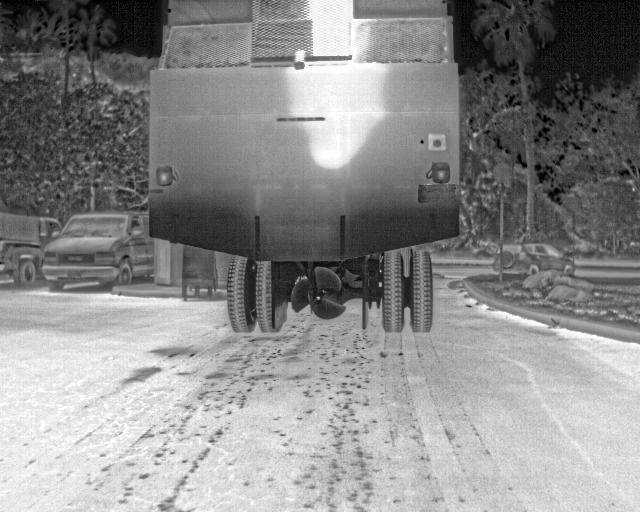bicycle: (41, 208, 150, 292), (0, 210, 63, 288), (493, 239, 577, 274)
